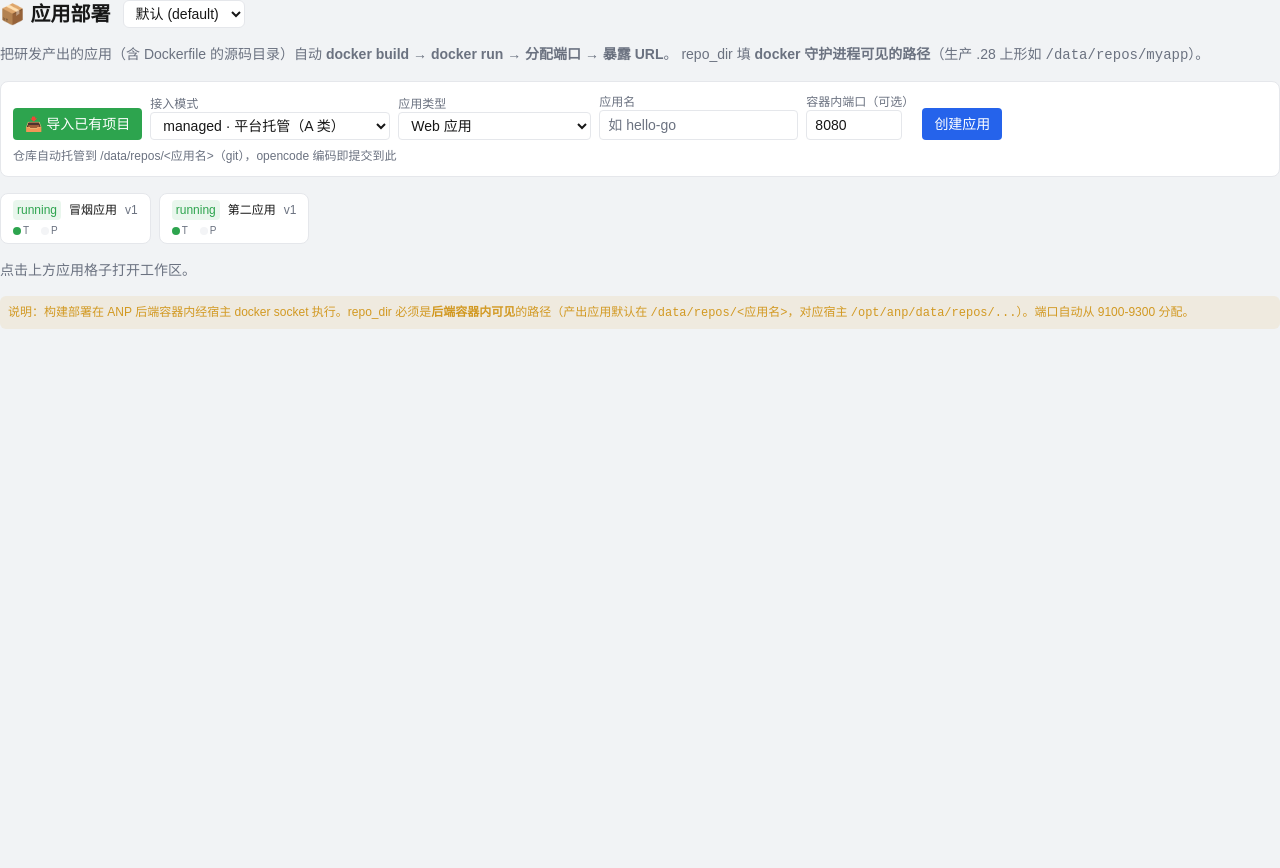
Test: ApplicationsPage tab 化壳 › A 开日志 → ✕ 关 A tab（激活转移 B）：B 面板不显示 A 的日志
Expected: the element with test id "overview-bar" is shown, [0,193,310,244]
# 开 A → 开 B（B 激活）→ 回 A 激活 → A 开日志 → ✕ 关 A：激活转移 B（B 仍在）
Click the text "冒烟应用": click(93, 210) [69,202,117,218]
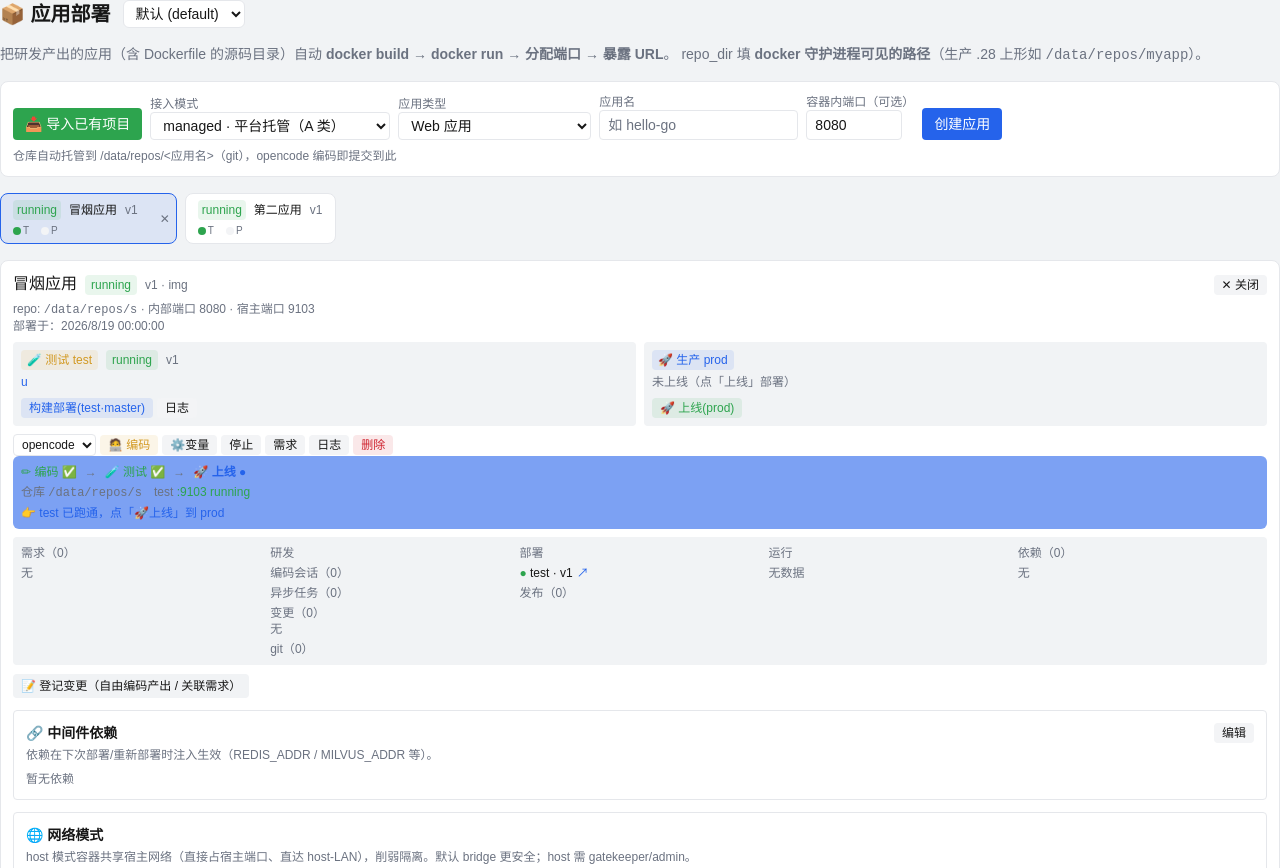
Click the text "第二应用": click(278, 210) [254,202,302,218]
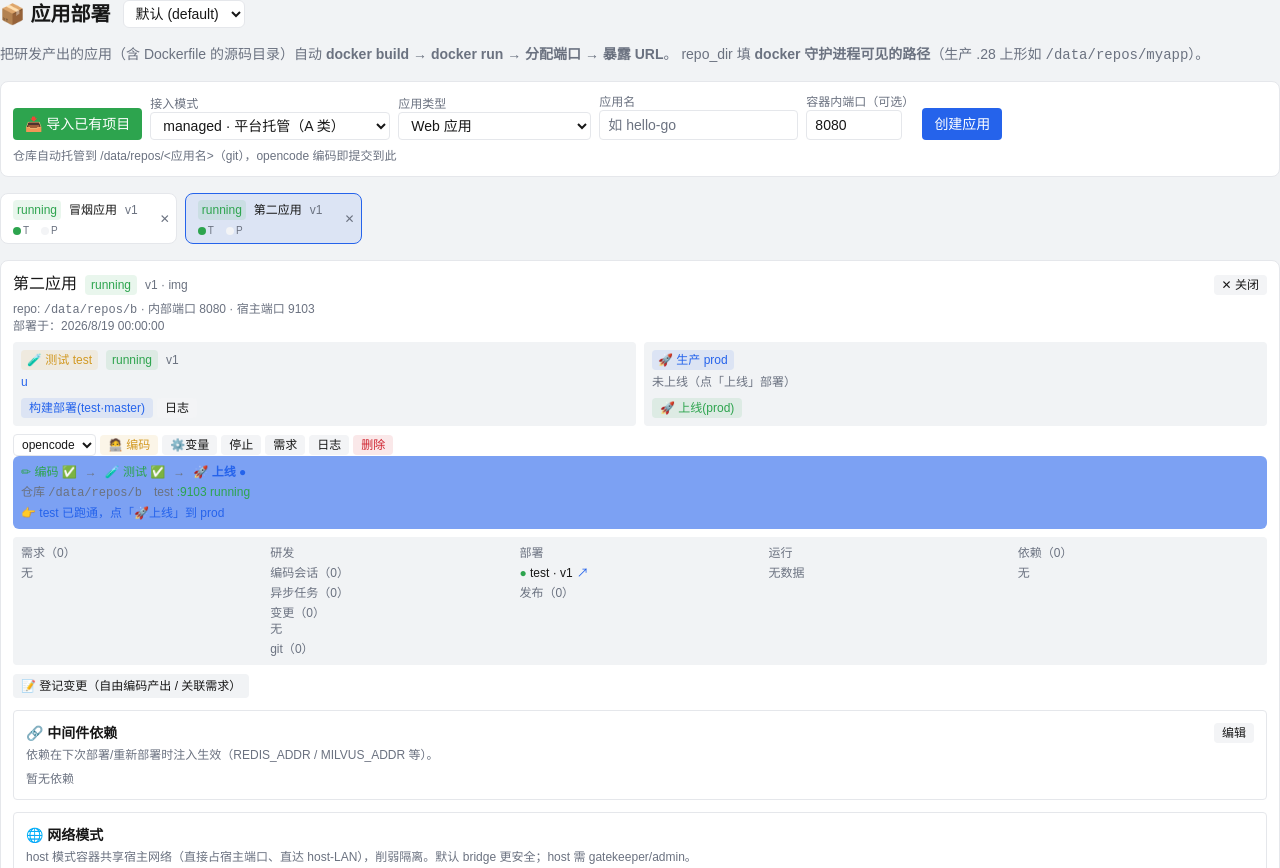
Click the text "冒烟应用": click(93, 210) [69,202,117,218]
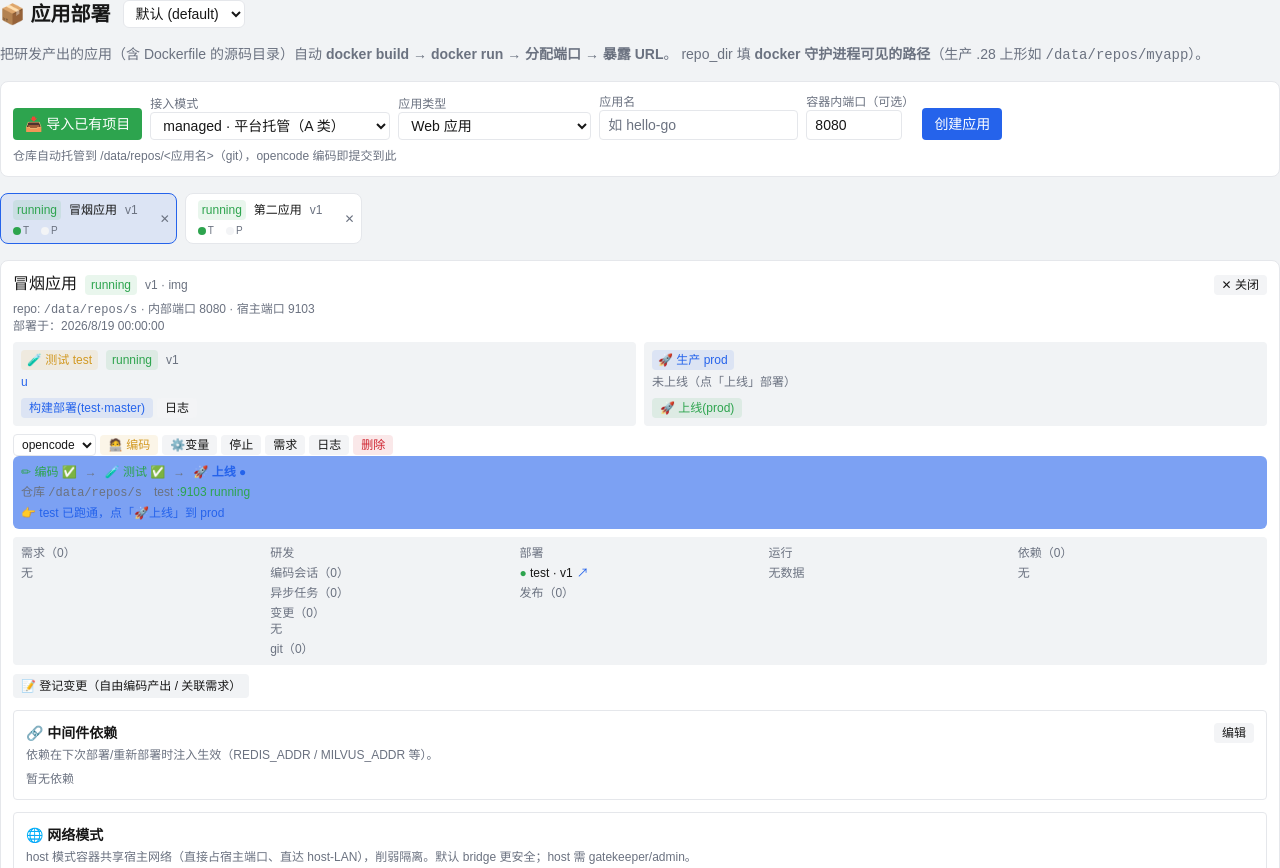
Click the button "日志" below "🧪 测试 test": click(177, 408) [157,398,197,418]
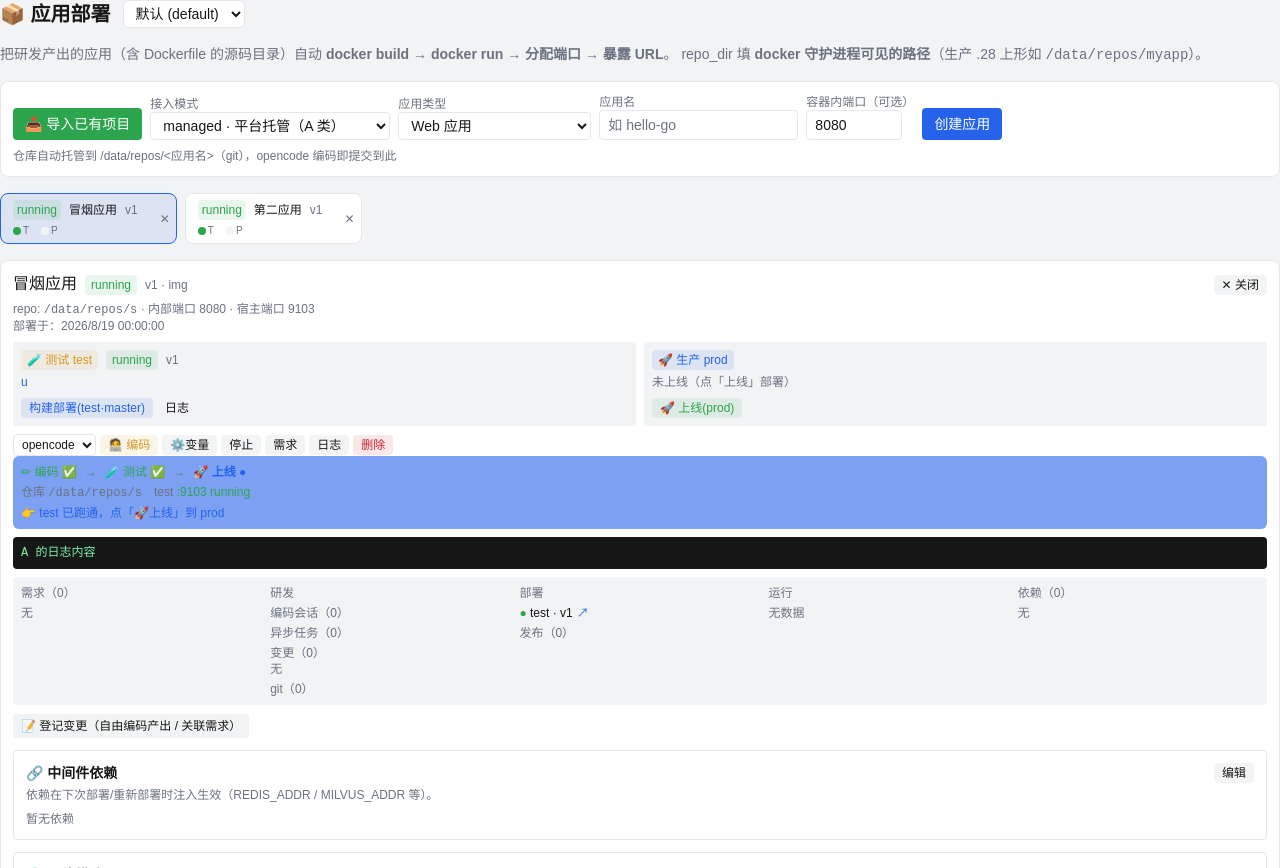
Expected: the text "A 的日志内容" is shown, [13,537,1267,569]
Click the 1st button titled "关闭 tab": click(165, 219) [154,211,176,227]
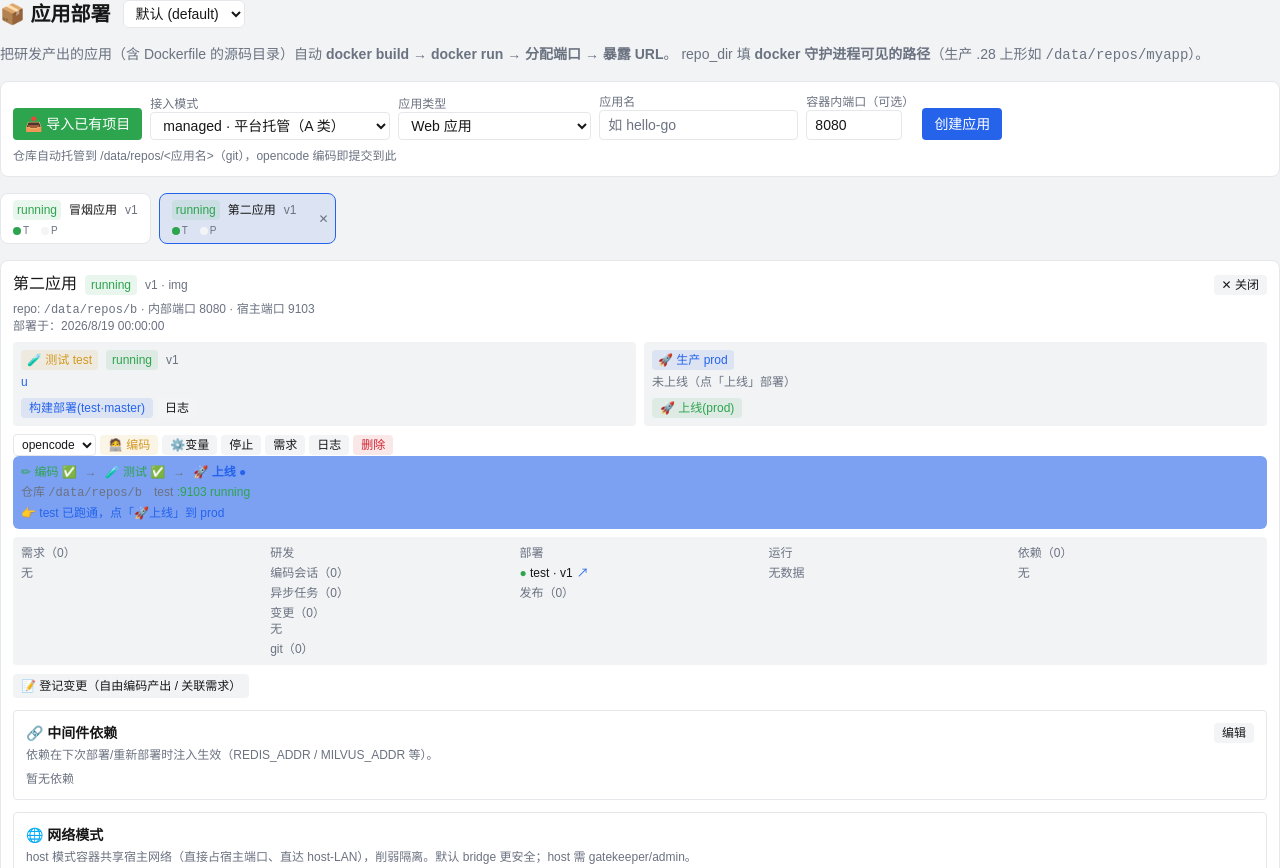
Expected: the text "A 的日志内容" is gone
